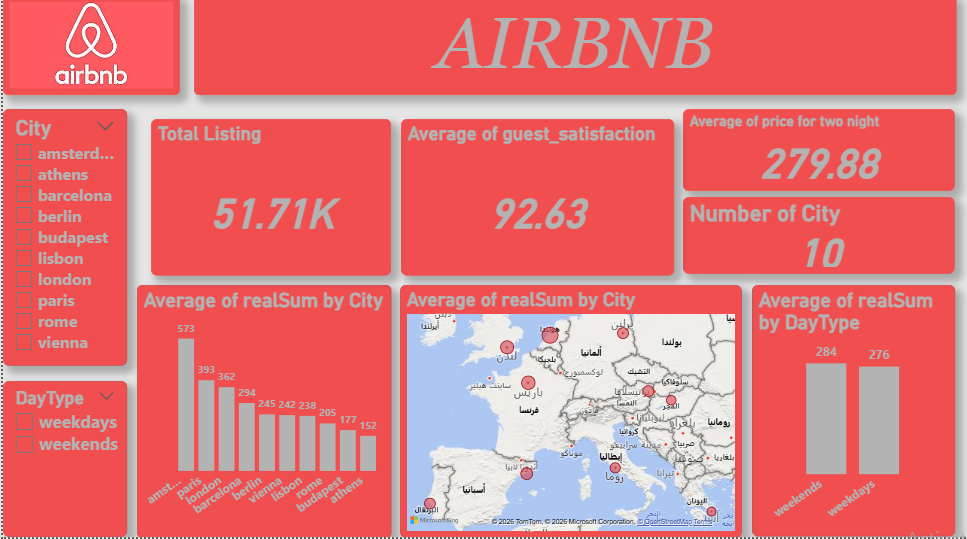

The page's visual inventory and layout, read from the dashboard file:
{"tool":"powerbi","page":{"name":"Page 1","canvas":[1280,720],"ordinal":0},"visuals":[{"type":"textbox","box":[253.2,0,1012.7,133.2],"z":0},{"type":"image","box":[0,0,235.2,132.7],"z":1000},{"type":"card","title":"Average of price for two night","fields":{"Values":["Avg(GOLD FACT.realSum)"]},"box":[903.7,151.2,361.2,109.2],"z":2000},{"type":"card","title":"Number of City","fields":{"Values":["Count(GOLD DIMList.City)"]},"box":[903.7,268.8,361.2,102.5],"z":3000},{"type":"card","title":"Average of guest_satisfaction","fields":{"Values":["Avg(GOLD DIMList.guest_satisfaction_overall)"]},"box":[529.1,164.6,362.8,208.3],"z":4000},{"type":"slicer","fields":{"Values":["GOLD DIMList.City"]},"box":[0,151.2,164.5,340.6],"z":5000},{"type":"slicer","fields":{"Values":["GOLD DIMList.DayType"]},"box":[0,512.8,164.5,206.6],"z":6000},{"type":"columnChart","fields":{"Category":["GOLD DIMList.DayType"],"Y":["Avg(GOLD FACT.realSum)"]},"box":[994.4,384.7,270.4,334.3],"z":7000},{"type":"columnChart","fields":{"Category":["GOLD DIMList.City"],"Y":["Avg(GOLD FACT.realSum)"]},"box":[178.1,384.7,337.6,336],"z":8000},{"type":"map","fields":{"Category":["GOLD DIMList.City"],"Size":["Avg(GOLD FACT.realSum)"]},"box":[527.5,384.7,453.5,336],"z":9000},{"type":"card","title":"Total Listing","fields":{"Values":["Count(GOLD DIMList.id_list)"]},"box":[196.5,164.6,319.2,208.3],"z":9002}]}

Visuals, with their boxes in screenshot pixels (x1, y1, x2, y2), scaled from the page's 1280x720 canvas onto the 967x539 screenshot:
textbox: select_region(191, 0, 956, 100)
image: select_region(0, 0, 178, 99)
"Average of price for two night" card: select_region(683, 113, 956, 195)
"Number of City" card: select_region(683, 201, 956, 278)
"Average of guest_satisfaction" card: select_region(400, 123, 674, 279)
slicer - GOLD DIMList.City: select_region(0, 113, 124, 368)
slicer - GOLD DIMList.DayType: select_region(0, 384, 124, 538)
columnChart - GOLD DIMList.DayType x Avg(GOLD FACT.realSum): select_region(751, 288, 956, 538)
columnChart - GOLD DIMList.City x Avg(GOLD FACT.realSum): select_region(135, 288, 390, 538)
map - GOLD DIMList.City x Avg(GOLD FACT.realSum): select_region(399, 288, 741, 538)
"Total Listing" card: select_region(148, 123, 390, 279)
